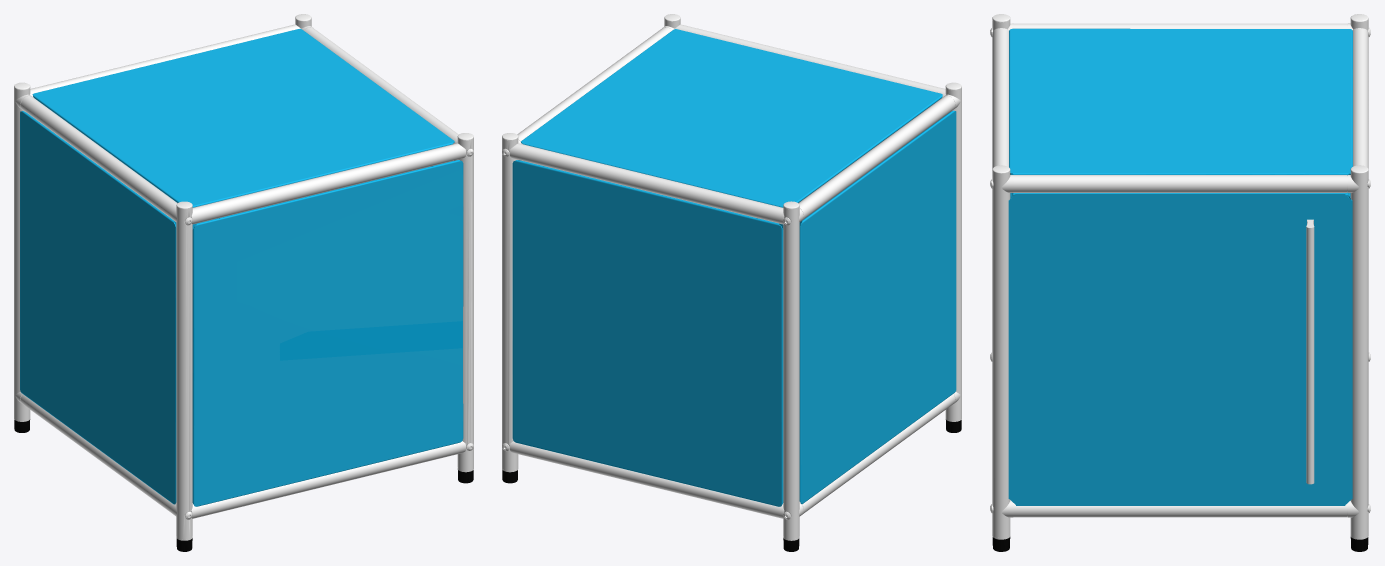
Rendered from 40x40x40-2-5-blue-opt-20-282-29.glb.
3 views of the same model, side by side, from view 1: azimuth 30°, elevation 25°; view 2: azimuth 150°, elevation 25°; view 3: azimuth 270°, elevation 25° (orthographic). The views are drawn at different scales.
Parts seen in each view (by area): view 1: 直角鐵板-40x40-2 - 零件, 鐵管-1層-40-正常腳-32mm-4 - 零件, 圓形腳+調整器-1 - 零件; view 2: 直角鐵板-40x40-2 - 零件, 鐵管-1層-40-正常腳-32mm-4 - 零件, 圓形腳+調整器-1 - 零件; view 3: 直角鐵板-40x40-2 - 零件, 鐵管-1層-40-正常腳-32mm-4 - 零件, 圓形腳+調整器-1 - 零件.
Part boxes in pixels (x1,y1,x2,y2): 直角鐵板-40x40-2 - 零件: (20,28,463,506); 鐵管-1層-40-正常腳-32mm-4 - 零件: (14,14,473,540); 圓形腳+調整器-1 - 零件: (14,419,473,551); 直角鐵板-40x40-2 - 零件: (512,29,956,506); 鐵管-1層-40-正常腳-32mm-4 - 零件: (502,14,961,540); 圓形腳+調整器-1 - 零件: (502,419,961,551); 直角鐵板-40x40-2 - 零件: (1008,28,1352,505); 鐵管-1層-40-正常腳-32mm-4 - 零件: (990,14,1370,539); 圓形腳+調整器-1 - 零件: (992,537,1368,551).
Bounding box in the file's own units: 0.4203 × 0.4453 × 0.4036.
